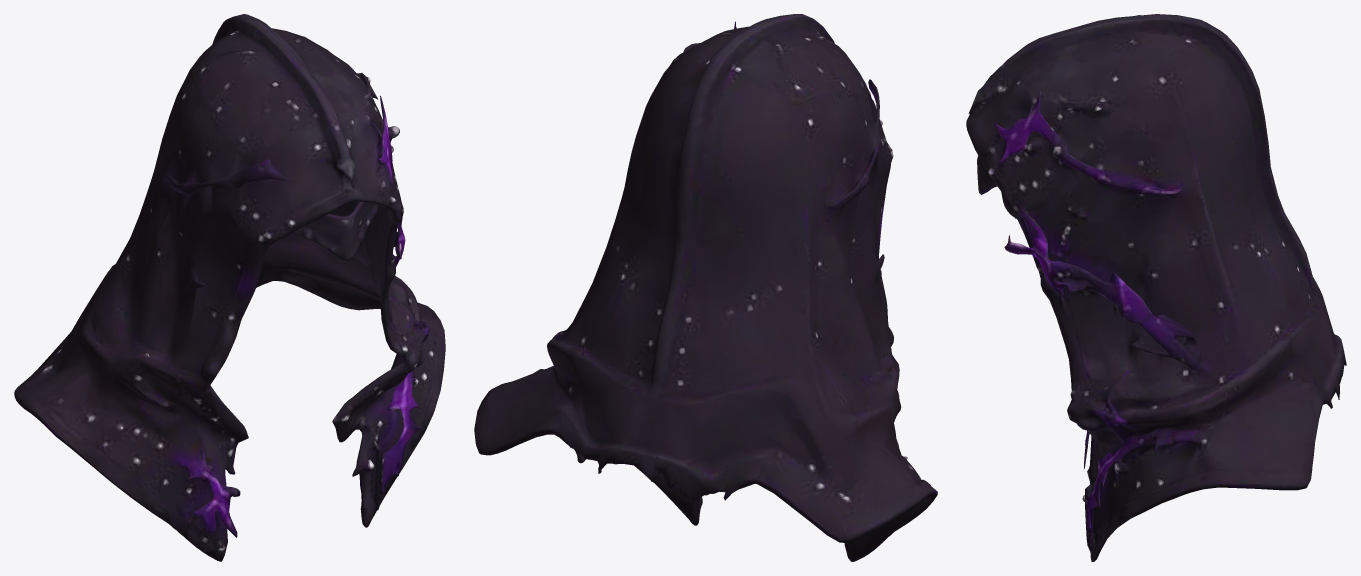
The model's file is tecelao-elmo.glb.
The picture shows the model from 3 angles, left to right: view 1: azimuth 30°, elevation 25°; view 2: azimuth 150°, elevation 25°; view 3: azimuth 270°, elevation 25°; orthographic projection. The views are drawn at different scales.
Parts seen in each view (by area): view 1: tripo_node_ed327a6c-c21d-498c-a849-742316a80569; view 2: tripo_node_ed327a6c-c21d-498c-a849-742316a80569; view 3: tripo_node_ed327a6c-c21d-498c-a849-742316a80569.
Boxes of the visible parts, bbox=[...] form: tripo_node_ed327a6c-c21d-498c-a849-742316a80569: bbox=[14, 14, 445, 561]; tripo_node_ed327a6c-c21d-498c-a849-742316a80569: bbox=[474, 14, 937, 561]; tripo_node_ed327a6c-c21d-498c-a849-742316a80569: bbox=[966, 14, 1346, 561].
Bounding box in the file's own units: 0.8307 × 0.9766 × 0.6613.
Materials: 1 (1 with a texture image).
